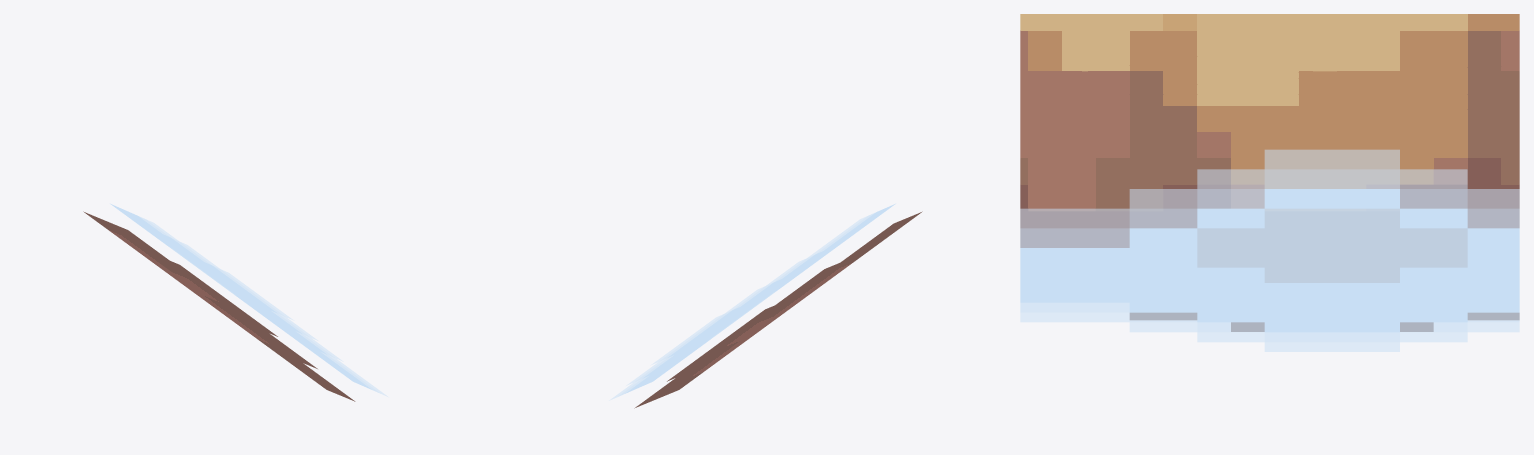
3 renders of one model, left to right at view 1: azimuth 30°, elevation 25°; view 2: azimuth 150°, elevation 25°; view 3: azimuth 270°, elevation 25°, orthographic. The views are drawn at different scales.
Bounding box in the file's own units: 0.5459 × 0.6892 × 1.
Materials: 2 (2 with a texture image).
